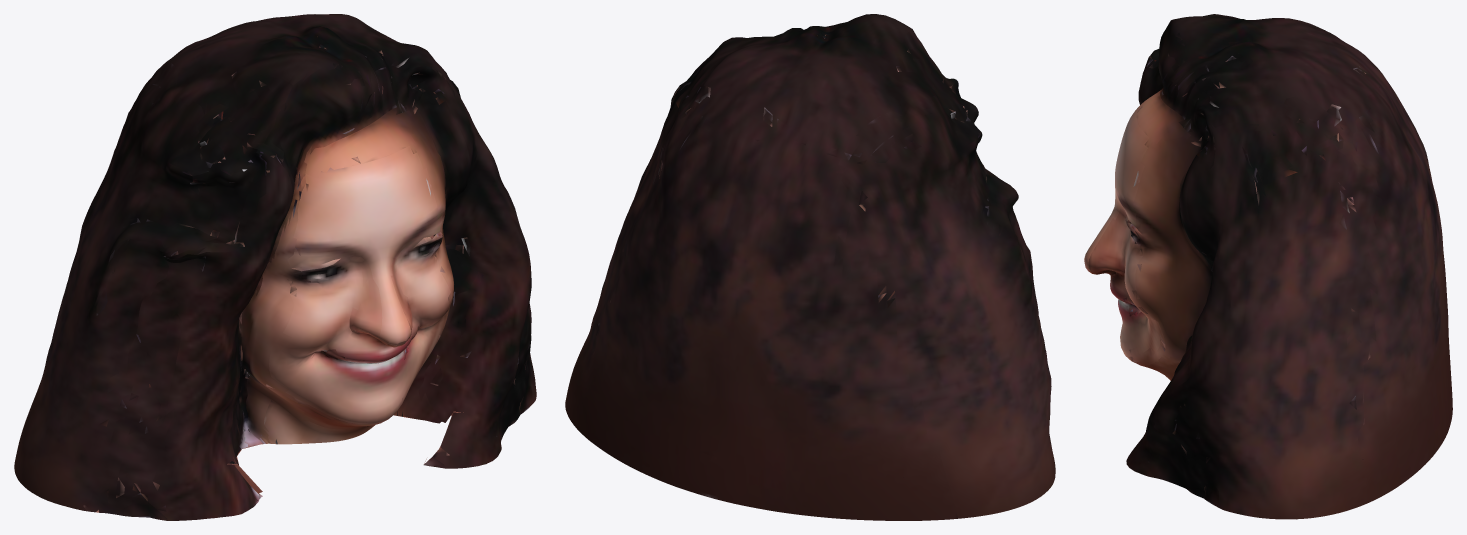
Rendered from Ms_Cusato.glb.
3 views of the same model, side by side, from view 1: azimuth 30°, elevation 25°; view 2: azimuth 150°, elevation 25°; view 3: azimuth 270°, elevation 25° (orthographic). The views are drawn at different scales.
Visible parts, largest first — view 1: Ms.Cusato; view 2: Ms.Cusato; view 3: Ms.Cusato.
Boxes of the visible parts, bbox=[...] form: Ms.Cusato: bbox=[14, 14, 536, 520]; Ms.Cusato: bbox=[565, 14, 1055, 520]; Ms.Cusato: bbox=[1084, 14, 1452, 519].
Size of the model in its own units: 8.2 by 6.63 by 5.79.
1 material, 1 textured.
